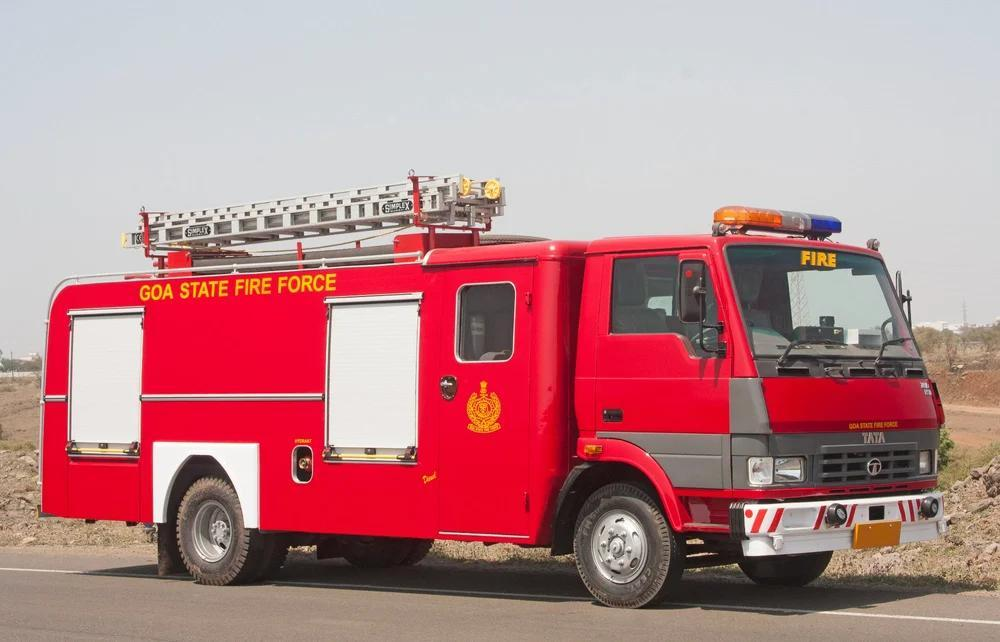Fire-engine: (40, 176, 948, 611), (124, 165, 504, 271), (706, 203, 858, 239), (228, 265, 358, 305), (441, 376, 508, 446), (785, 246, 847, 272)
